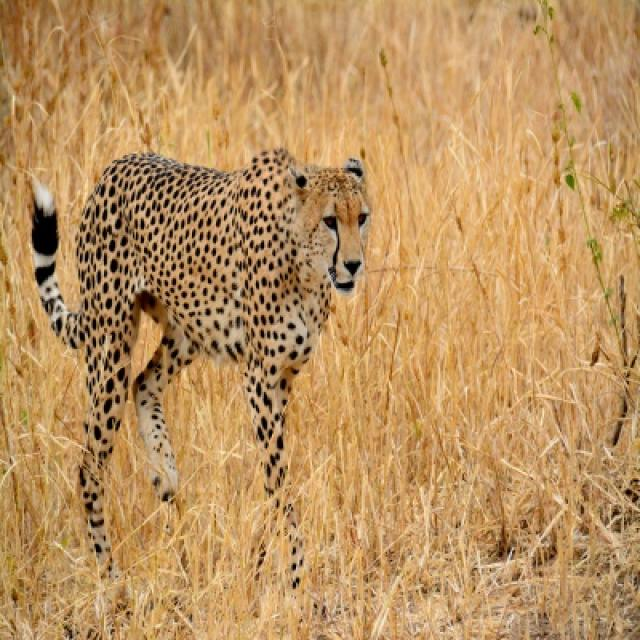Cheetah: (51, 149, 371, 565)
